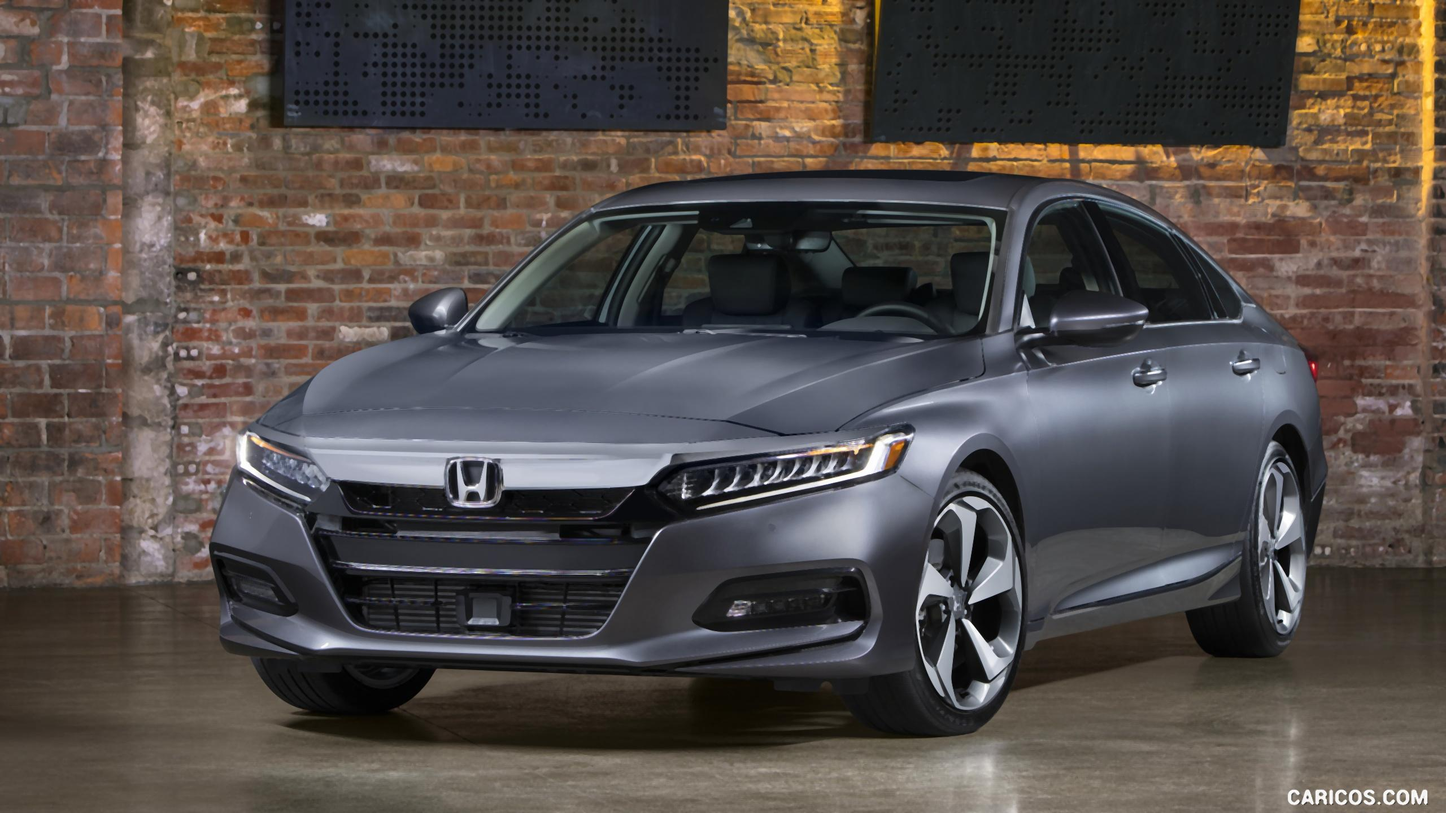Car hood: (256, 322, 986, 454)
Fender - -F-L-: (845, 329, 1033, 596)
Fender - -R-L-: (1208, 273, 1335, 534)
Front bumper: (202, 479, 930, 690)
Headlight - -L-: (649, 424, 912, 538)
Headlight - -R-: (229, 429, 331, 513)
Passenger-s door - -F-L-: (1000, 154, 1177, 665)
Passenger-s door - -R-L-: (1090, 151, 1273, 663)
Side bumper - -L-: (1023, 544, 1256, 693)
Side mirror - -L-: (1008, 292, 1148, 367)
Side mirror - -R-: (404, 282, 479, 341)
